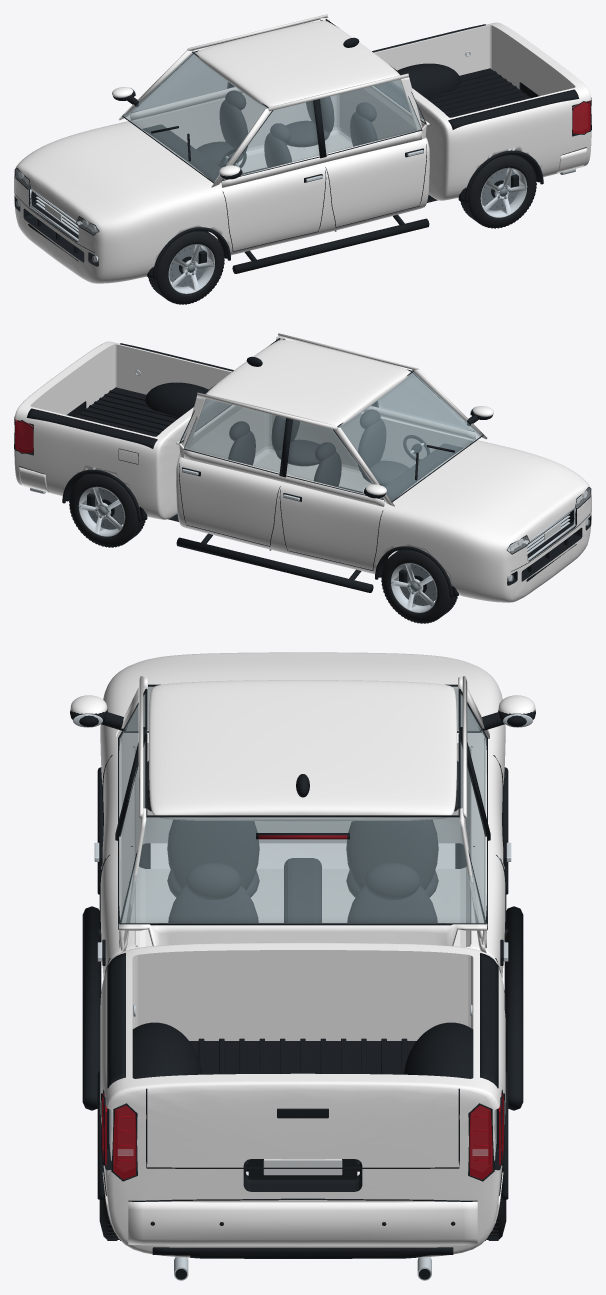
The model's file is pickup.glb.
3 renders of one model, top to bottom at view 1: azimuth 30°, elevation 25°; view 2: azimuth 150°, elevation 25°; view 3: azimuth 270°, elevation 25°, orthographic. The views are drawn at different scales.
Parts seen in each view (by area): view 1: Separate 14-station pickup cab, Separate 14-station cargo bed, Crowned roof pressing, Pickup windshield, Pickup rear door glass, Pickup front door glass, Pickup front door glass.001, 107 reused Sculpted_tyre.002, 107 reused Sculpted_tyre, Crew cab step rail, Pickup continuous painted glazing sill, Cargo bed liner (+26 smaller); view 2: Separate 14-station pickup cab, Separate 14-station cargo bed, Crowned roof pressing, Pickup windshield, Pickup rear door glass.001, Pickup front door glass.001, Pickup front door glass, 107 reused Sculpted_tyre.003, 107 reused Sculpted_tyre.001, Crew cab step rail.001, Pickup continuous painted glazing sill.001, Cargo bed liner (+26 smaller); view 3: Separate 14-station cargo bed, Crowned roof pressing, Separate 14-station pickup cab, Pickup rear cab glass, Formed painted rear bumper cover, Continuous painted rear cab bulkhead, Cargo bed liner, Contoured seat back, Contoured seat back.001, Crew cab step rail, Crew cab step rail.001, Sculpted rear lower bumper insert (+21 smaller).
Part boxes in pixels (x1,y1,x2,y2): Separate 14-station pickup cab: (14, 88, 429, 283); Separate 14-station cargo bed: (373, 22, 591, 200); Crowned roof pressing: (195, 20, 399, 107); Pickup windshield: (124, 53, 267, 181); Pickup rear door glass: (320, 79, 421, 153); Pickup front door glass: (223, 101, 319, 179); Pickup front door glass.001: (132, 52, 228, 112); 107 reused Sculpted_tyre.002: (461, 155, 536, 227); 107 reused Sculpted_tyre: (149, 230, 224, 304); Crew cab step rail: (232, 218, 429, 273); Pickup continuous painted glazing sill: (221, 129, 421, 187); Cargo bed liner: (428, 68, 529, 116); Separate 14-station pickup cab: (176, 407, 591, 602); Separate 14-station cargo bed: (14, 341, 232, 519); Crowned roof pressing: (206, 339, 410, 426); Pickup windshield: (338, 372, 481, 500); Pickup rear door glass.001: (184, 398, 285, 472); Pickup front door glass.001: (286, 420, 382, 498); Pickup front door glass: (377, 371, 473, 431); 107 reused Sculpted_tyre.003: (69, 474, 145, 547); 107 reused Sculpted_tyre.001: (381, 549, 457, 623); Crew cab step rail.001: (176, 537, 373, 592); Pickup continuous painted glazing sill.001: (184, 448, 384, 506); Cargo bed liner: (76, 387, 177, 435); Separate 14-station cargo bed: (100, 942, 505, 1257); Crowned roof pressing: (148, 680, 457, 821); Separate 14-station pickup cab: (100, 652, 505, 977); Pickup rear cab glass: (119, 817, 486, 923); Formed painted rear bumper cover: (128, 1201, 477, 1245); Continuous painted rear cab bulkhead: (119, 923, 486, 945); Cargo bed liner: (189, 1041, 416, 1171); Contoured seat back: (167, 819, 259, 889); Contoured seat back.001: (346, 819, 438, 889); Crew cab step rail: (82, 906, 101, 1110); Crew cab step rail.001: (504, 906, 523, 1110); Sculpted rear lower bumper insert: (152, 1247, 453, 1258).
Size of the model in its own units: 5.69 by 1.96 by 2.32.
10 materials, 9 textured.
